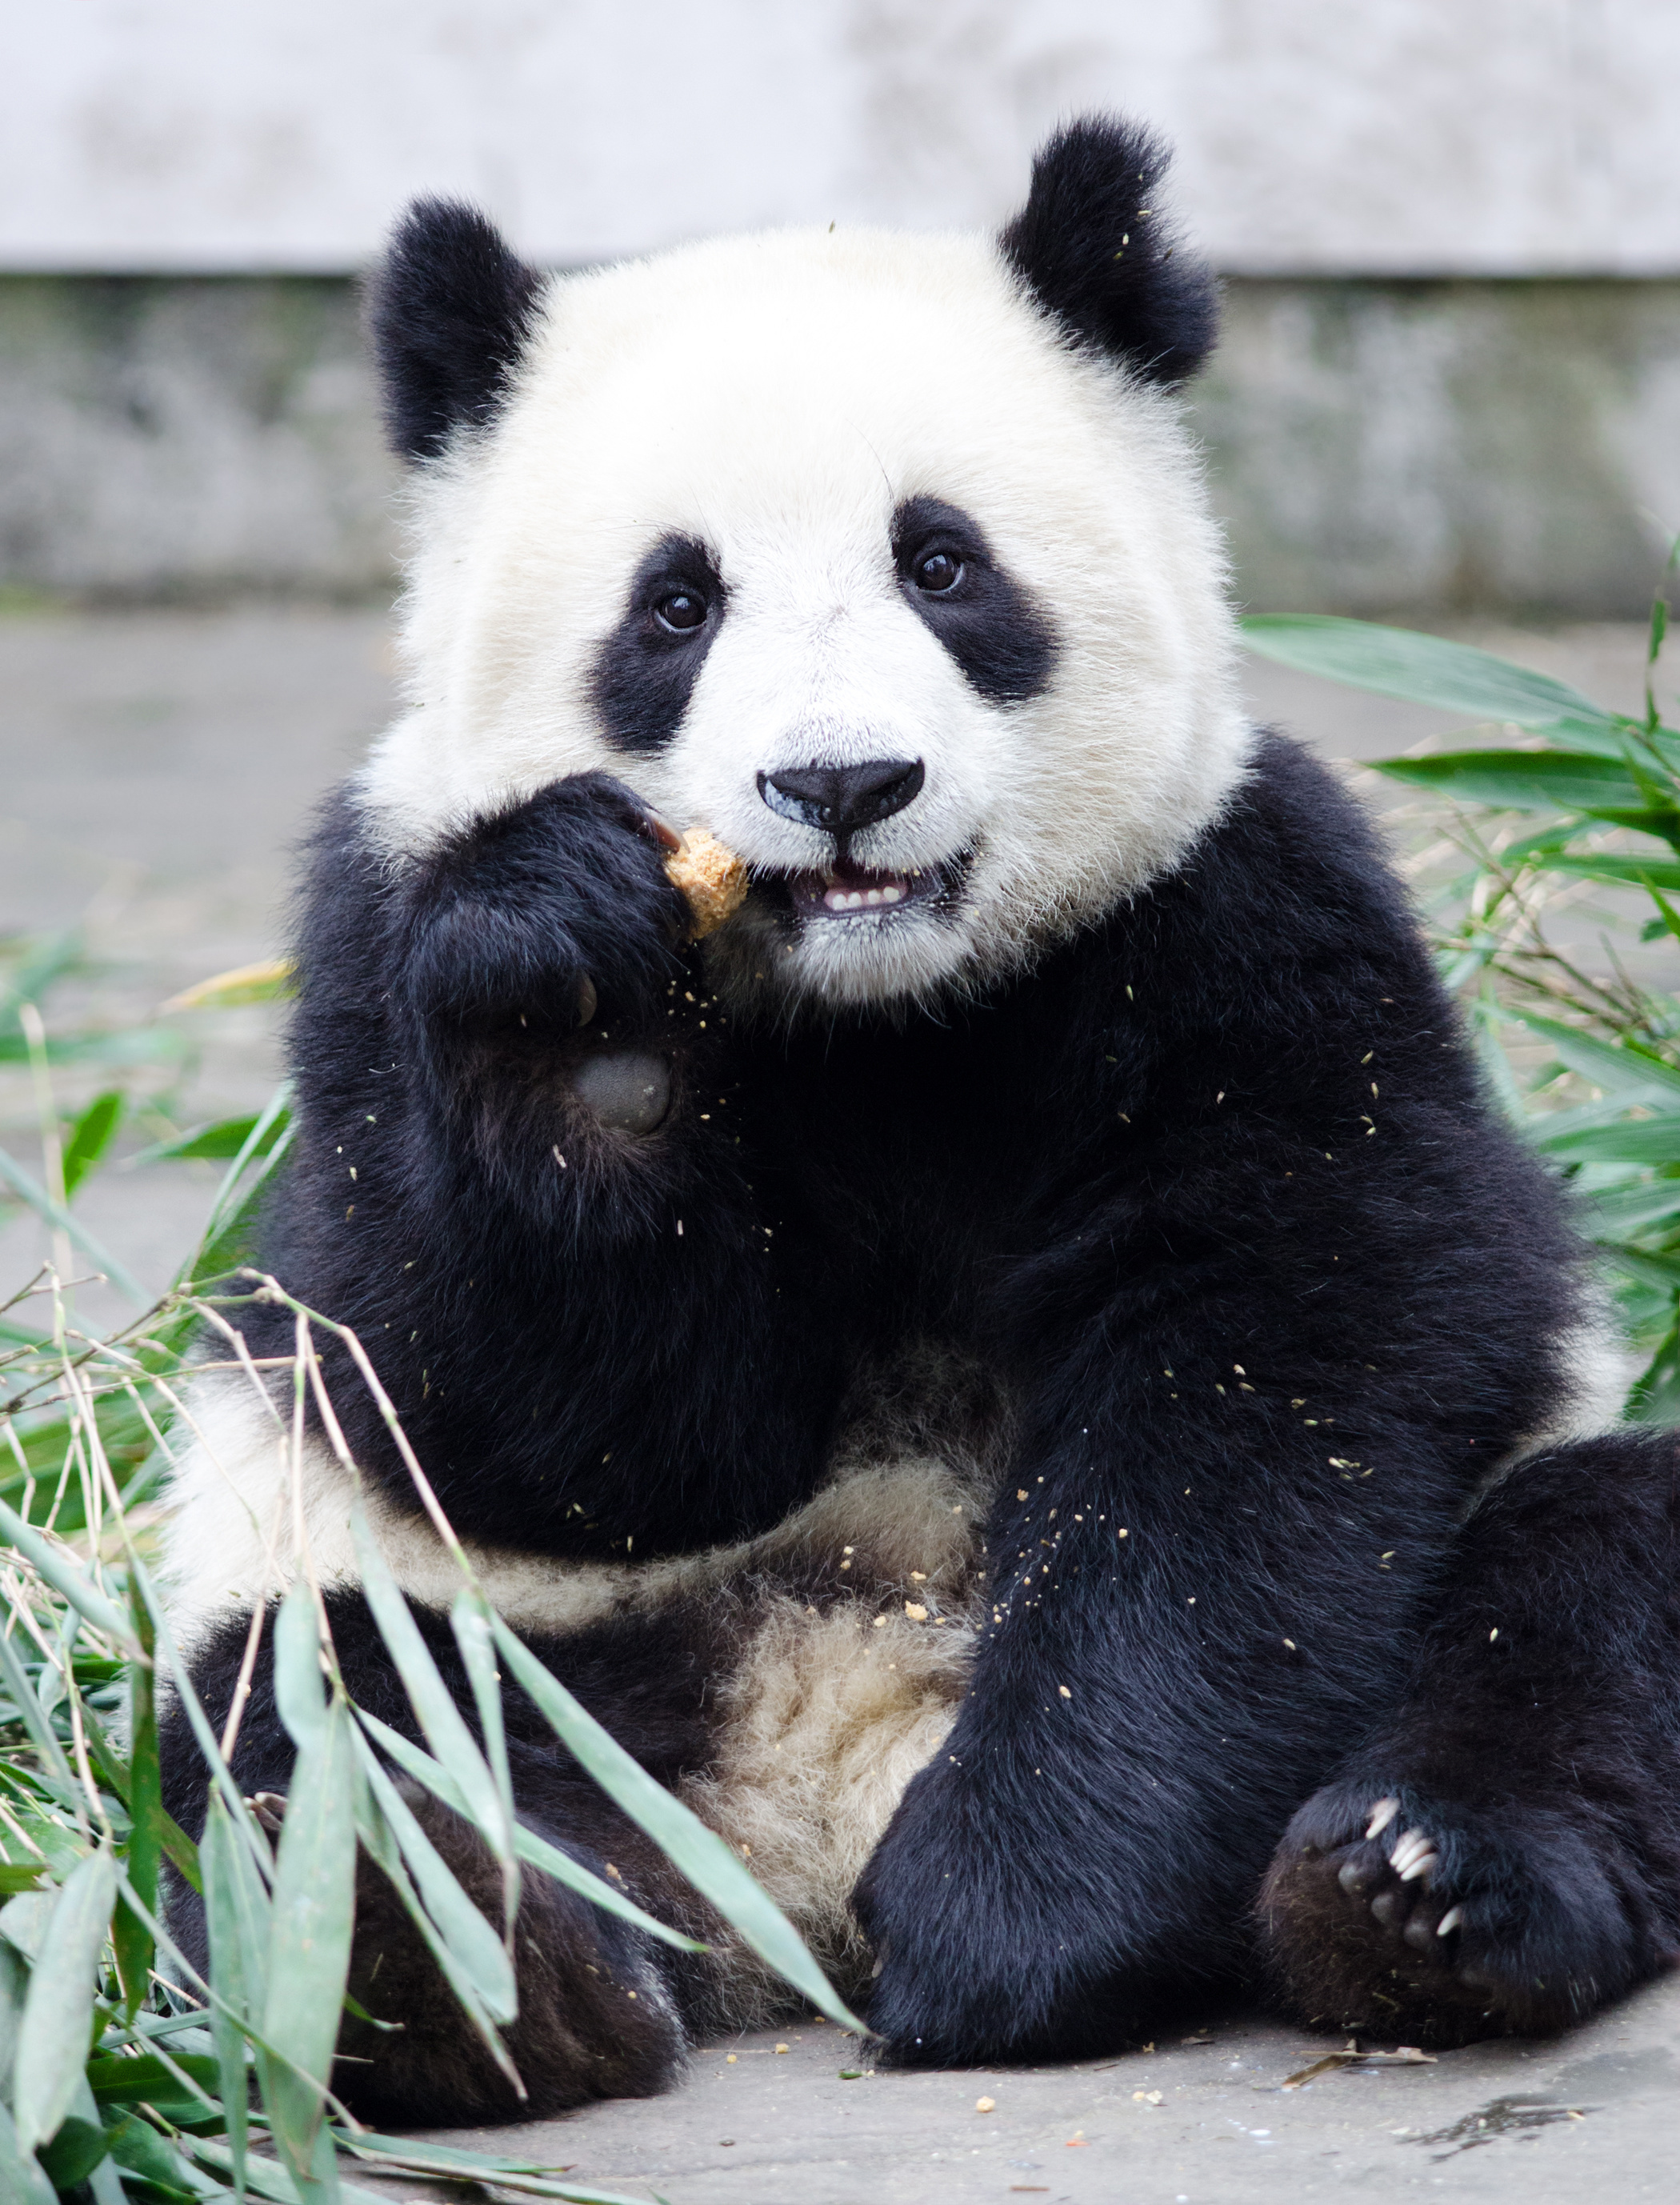panda: (171, 115, 1602, 2071)
